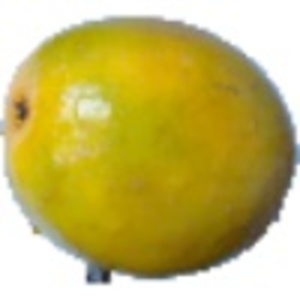maracujá: (1, 16, 300, 287)
